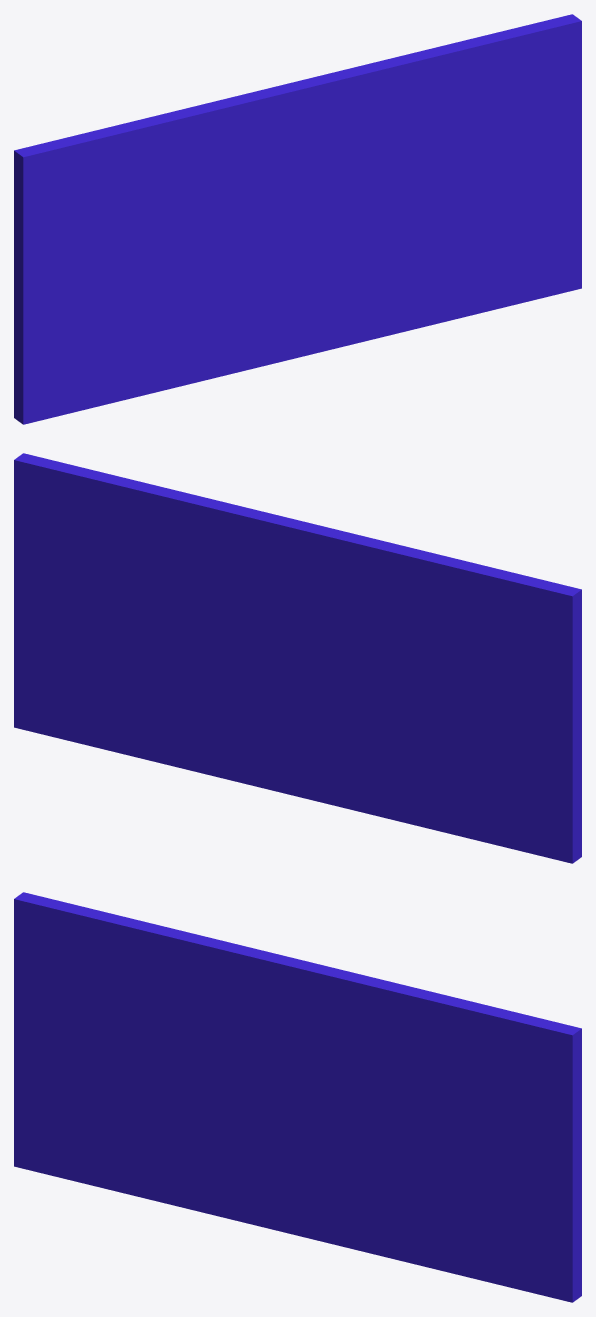
Rendered from breakableWall.fbx.
3 views of the same model, one above another, from view 1: azimuth 30°, elevation 25°; view 2: azimuth 150°, elevation 25°; view 3: azimuth 330°, elevation 25° (orthographic).
Visible parts, largest first — view 1: 立方体.001, 立方体.001_cell, 立方体.001_cell.001_cell, 立方体.001_cell.003_cell.007, 立方体.001_cell.001_cell.001; view 2: 立方体.001, 立方体.001_cell, 立方体.001_cell.001_cell.006, 立方体.001_cell.002, 立方体.001_cell.003_cell.002, 立方体.001_cell.003_cell.006, 立方体.001_cell.001_cell, 立方体.001_cell.001_cell.002, 立方体.001_cell.003_cell.007, 立方体.001_cell.003_cell.004, 立方体.001_cell.001_cell.001, 立方体.001_cell.003_cell.001 (+3 smaller); view 3: 立方体.001, 立方体.001_cell.002, 立方体.001_cell, 立方体.001_cell.003_cell.006, 立方体.001_cell.003_cell.007, 立方体.001_cell.003_cell.
Part boxes in pixels (x1,y1,x2,y2): 立方体.001: (14, 14, 581, 424); 立方体.001_cell: (14, 275, 293, 424); 立方体.001_cell.001_cell: (14, 133, 145, 248); 立方体.001_cell.003_cell.007: (297, 59, 389, 82); 立方体.001_cell.001_cell.001: (14, 240, 44, 323); 立方体.001: (14, 453, 581, 863); 立方体.001_cell: (295, 708, 581, 863); 立方体.001_cell.001_cell.006: (291, 531, 452, 727); 立方体.001_cell.002: (14, 616, 298, 794); 立方体.001_cell.003_cell.002: (120, 513, 258, 677); 立方体.001_cell.003_cell.006: (14, 482, 132, 646); 立方体.001_cell.001_cell: (422, 559, 581, 686); 立方体.001_cell.001_cell.002: (405, 616, 537, 752); 立方体.001_cell.003_cell.007: (194, 500, 290, 602); 立方体.001_cell.003_cell.004: (246, 515, 303, 637); 立方体.001_cell.001_cell.001: (533, 683, 581, 760); 立方体.001_cell.003_cell.001: (68, 473, 198, 523); 立方体.001: (14, 892, 581, 1302); 立方体.001_cell.002: (285, 1124, 581, 1302); 立方体.001_cell: (14, 1069, 287, 1232); 立方体.001_cell.003_cell.006: (572, 1075, 581, 1187); 立方体.001_cell.003_cell.007: (306, 961, 395, 988); 立方体.001_cell.003_cell: (522, 1022, 581, 1084).
Size of the model in its own units: 437 by 200 by 12.73.
